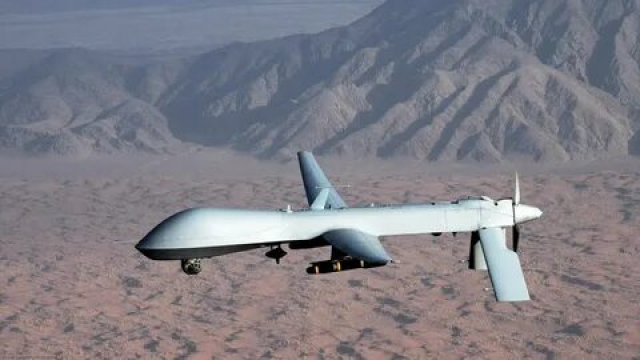military drone: (133, 150, 544, 301)
